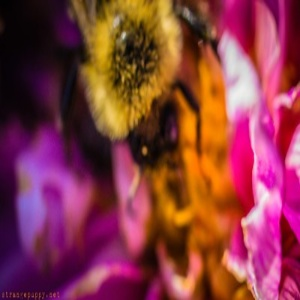bee: (49, 3, 225, 201)
